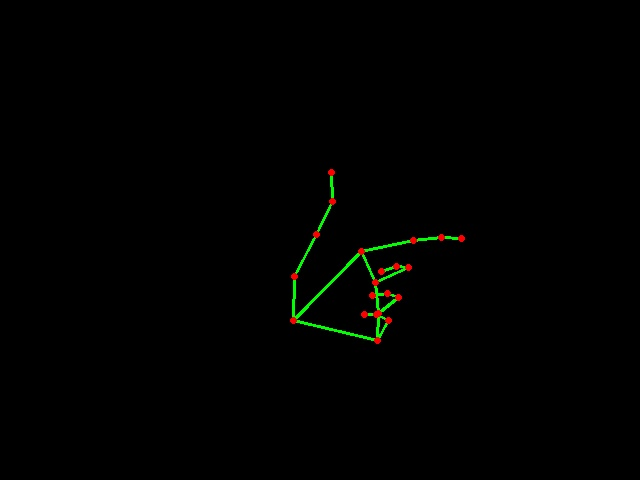left: (274, 160, 475, 349)
